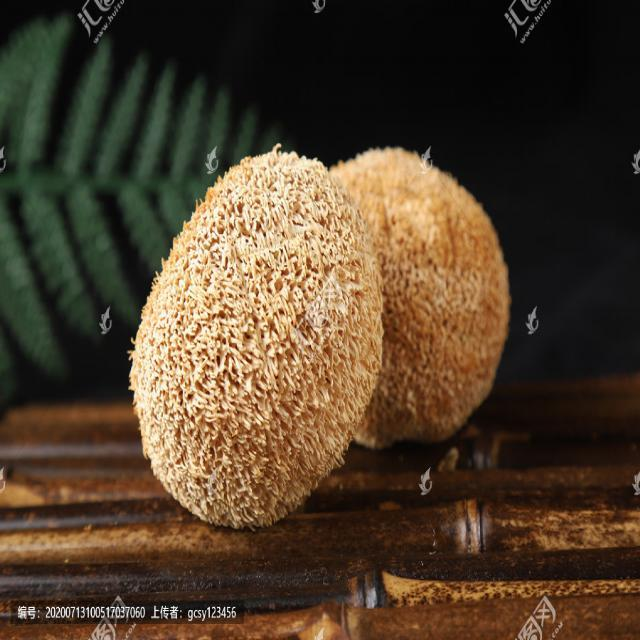Hericium erinaceus: (133, 152, 382, 525), (327, 149, 510, 446)
